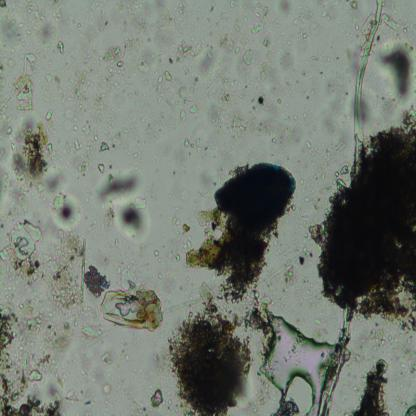Air bubble: (261, 310, 331, 415)
Background material: (309, 103, 416, 319), (168, 294, 252, 415), (186, 209, 281, 300), (0, 294, 62, 416), (70, 44, 132, 134), (93, 161, 151, 247), (5, 122, 65, 194), (247, 68, 298, 141), (45, 230, 88, 314), (349, 323, 416, 374), (101, 280, 164, 333), (0, 212, 46, 283), (350, 358, 394, 416), (0, 1, 54, 46), (0, 53, 36, 117), (380, 40, 414, 103), (153, 70, 195, 119), (121, 0, 148, 73), (146, 2, 179, 52), (79, 343, 119, 383), (211, 63, 232, 132), (324, 84, 352, 135), (248, 1, 272, 47), (284, 251, 308, 291), (68, 138, 92, 177), (41, 65, 66, 102), (52, 192, 78, 226), (84, 266, 110, 300), (168, 44, 202, 64), (172, 216, 192, 249), (221, 28, 243, 56), (297, 9, 315, 43), (274, 393, 300, 414), (122, 266, 140, 293), (82, 320, 103, 343), (380, 12, 400, 34), (181, 135, 203, 154), (274, 1, 296, 20), (151, 243, 166, 269), (148, 386, 164, 409), (325, 6, 339, 27), (336, 163, 352, 181), (232, 115, 248, 130), (242, 49, 254, 67), (307, 87, 324, 99), (66, 388, 80, 402), (304, 137, 315, 154), (100, 381, 112, 396), (177, 2, 189, 17), (56, 41, 65, 56), (172, 251, 183, 263), (404, 405, 416, 415), (100, 140, 110, 152), (96, 163, 105, 175), (45, 108, 53, 121)
Cellulose filter fibre: (351, 1, 385, 176), (317, 309, 352, 415)
Fragment: (215, 162, 295, 216)
